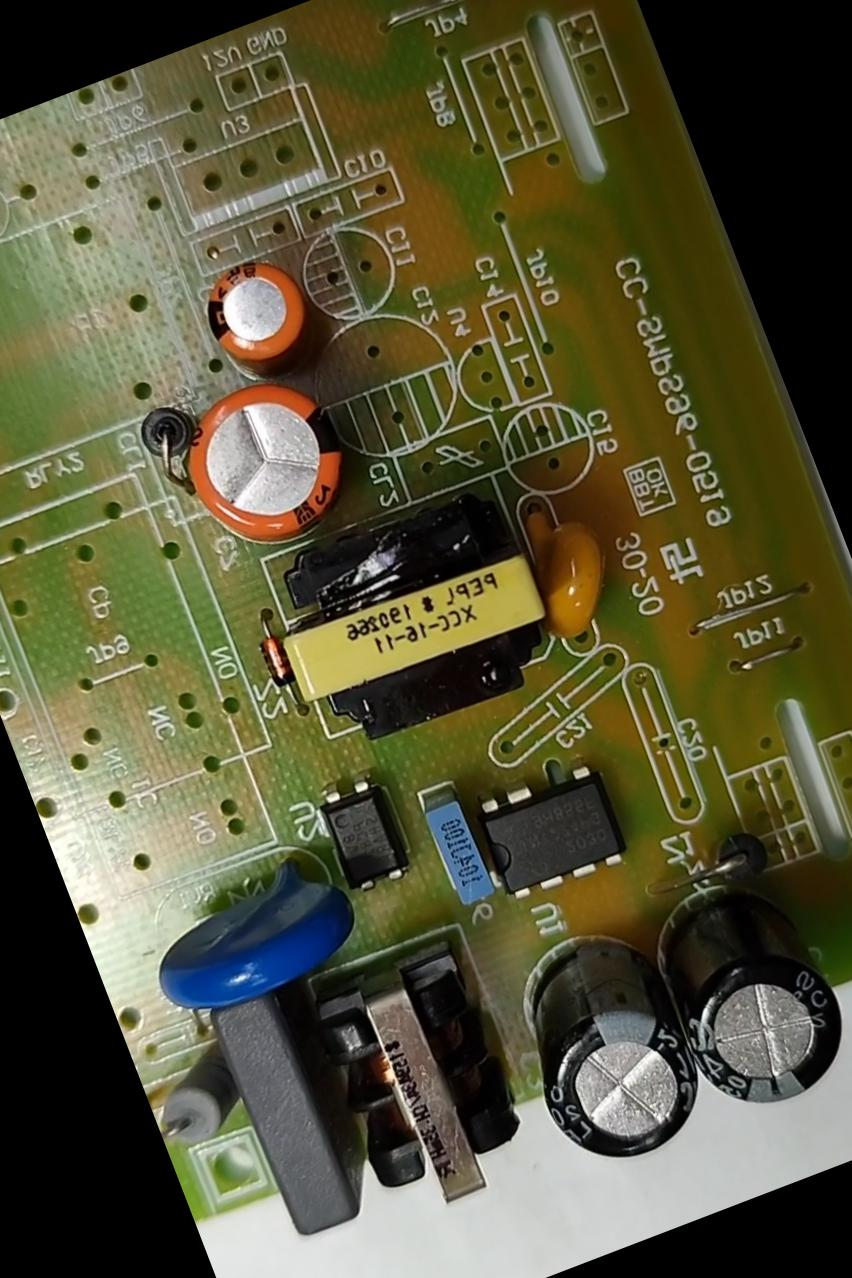Cap1: (148, 336, 384, 579)
Cap2: (183, 231, 341, 394)
Cap3: (477, 901, 739, 1192)
Cap4: (618, 830, 851, 1141)
MOSFET: (458, 743, 643, 917)
Mov: (123, 825, 380, 1046)
Resistor: (134, 1029, 260, 1158)
Transformer: (244, 464, 586, 772), (261, 919, 558, 1258)
